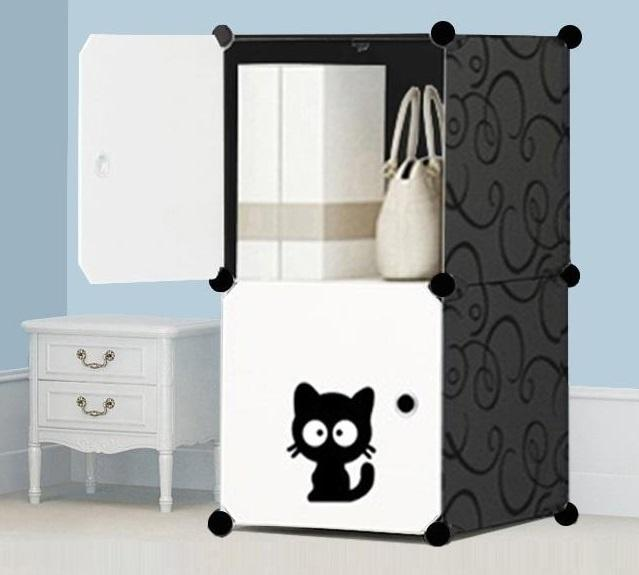cabinet_door: (45, 386, 156, 428), (44, 340, 153, 378)
handle: (78, 394, 116, 421), (76, 346, 117, 371)
